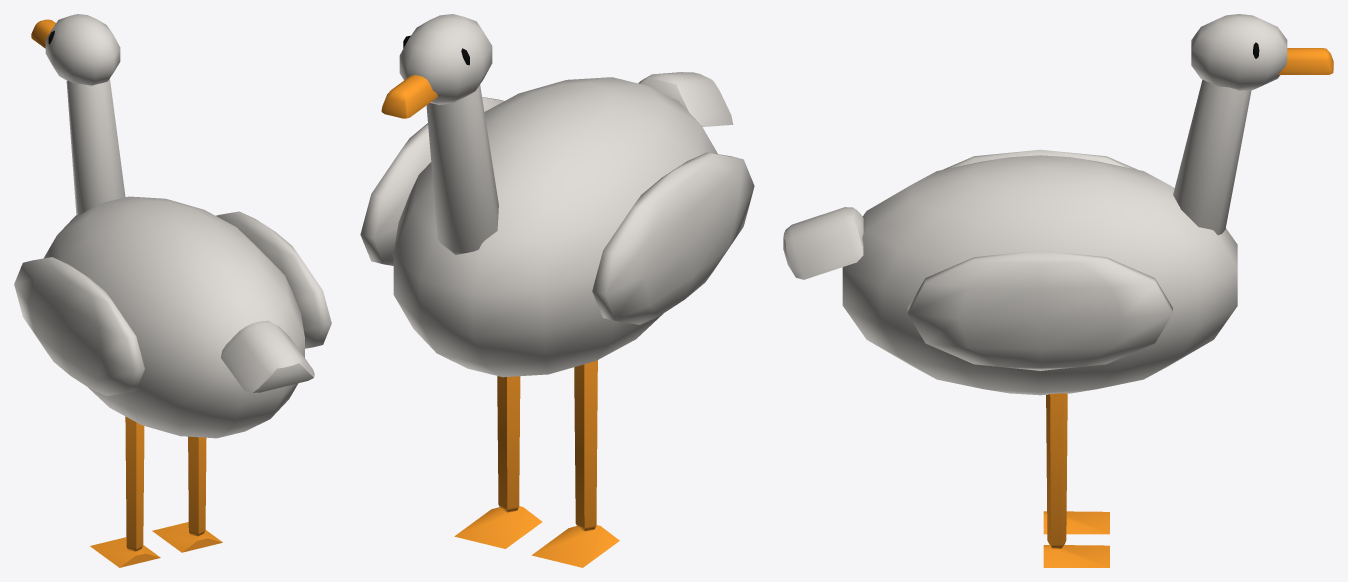
File: goose.glb
The picture shows the model from 3 angles, left to right: view 1: azimuth 30°, elevation 25°; view 2: azimuth 150°, elevation 25°; view 3: azimuth 270°, elevation 25°; orthographic projection. The views are drawn at different scales.
Visible parts, largest first — view 1: Body, ArmLMesh, ArmRMesh, LegLMesh, LegRMesh; view 2: Body, ArmLMesh, LegLMesh, LegRMesh, ArmRMesh; view 3: Body, ArmRMesh, LegRMesh, LegLMesh, ArmLMesh.
Boxes of the visible parts, x1,y1,x2,y2 form: Body: (31, 14, 314, 438); ArmLMesh: (14, 257, 144, 396); ArmRMesh: (216, 211, 331, 348); LegLMesh: (90, 416, 160, 567); LegRMesh: (152, 436, 222, 552); Body: (381, 14, 733, 377); ArmLMesh: (592, 152, 754, 324); LegLMesh: (531, 360, 619, 567); LegRMesh: (454, 376, 542, 548); ArmRMesh: (360, 97, 504, 265); Body: (783, 14, 1333, 395); ArmRMesh: (907, 250, 1172, 370); LegRMesh: (1043, 393, 1109, 567); LegLMesh: (1043, 511, 1109, 534); ArmLMesh: (942, 149, 1137, 169).
Bounding box in the file's own units: 0.86 × 1.74 × 1.66.
